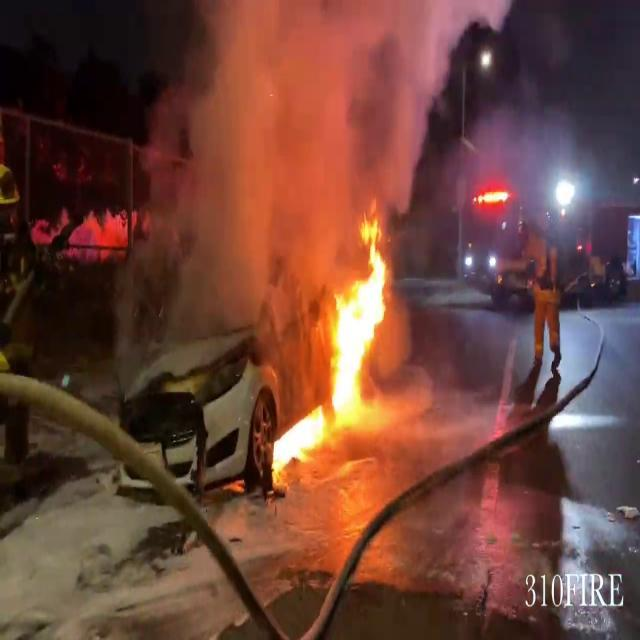Fire: (269, 209, 399, 466)
Smoke: (132, 1, 486, 276)
